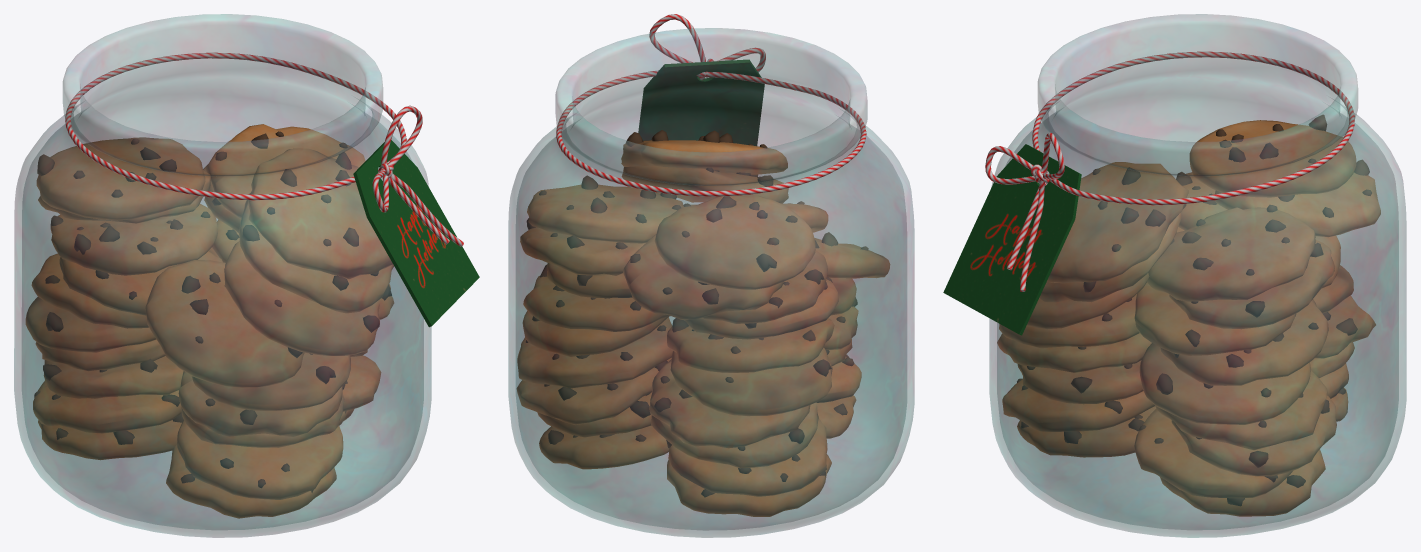
File: cookies_in_the_jar.glb
The picture shows the model from 3 angles, left to right: view 1: azimuth 30°, elevation 25°; view 2: azimuth 150°, elevation 25°; view 3: azimuth 270°, elevation 25°; orthographic projection. The views are drawn at different scales.
Parts seen in each view (by area): view 1: cookies; view 2: cookies; view 3: cookies.
Boxes of the visible parts, left/top/right/bottom form: cookies: left=14, top=14, right=479, bottom=537; cookies: left=508, top=14, right=914, bottom=537; cookies: left=943, top=14, right=1406, bottom=537.
Size of the model in its own units: 0.218 by 0.2231 by 0.2419.
1 material, 1 textured.
